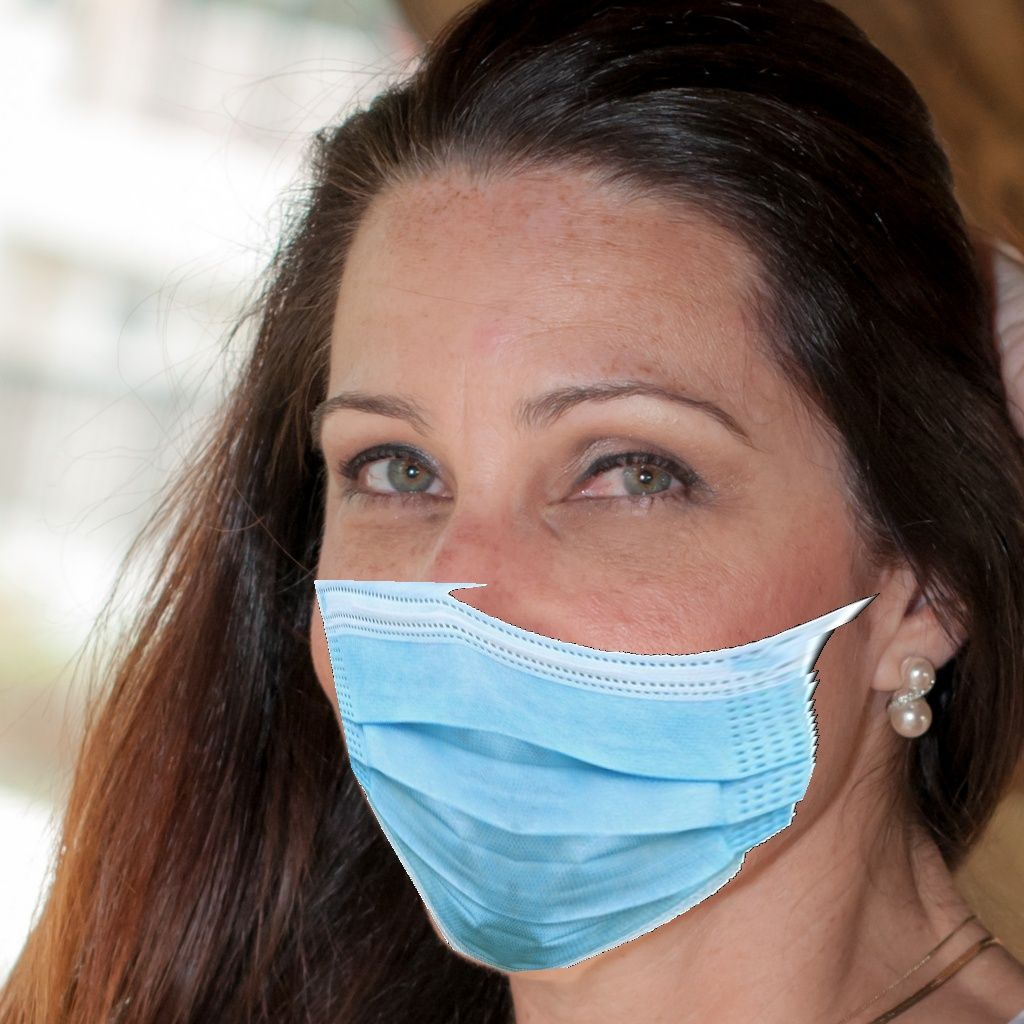Mask: (306, 362, 875, 977)
